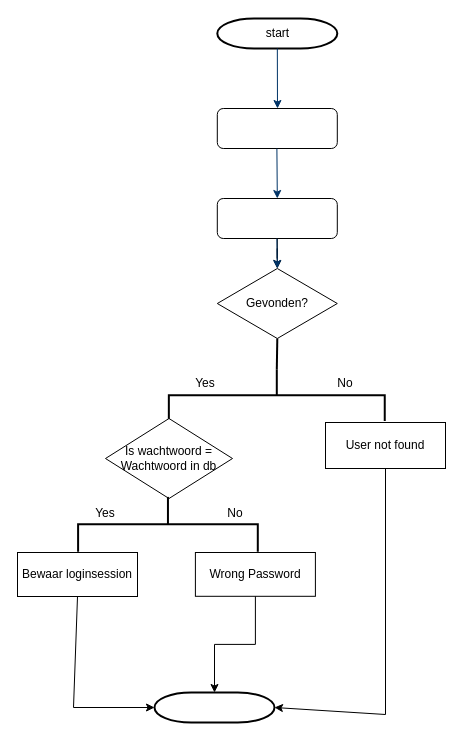
Some shapes in this 463 by 740 pixel diagram are drawn without their labels. Here are the shapes that lost their labels. From the top down, the box of each, then its label:
(216, 108, 337, 148): Connect Database
(216, 198, 337, 238): zoek username in de tabel User
(153, 691, 275, 723): End
